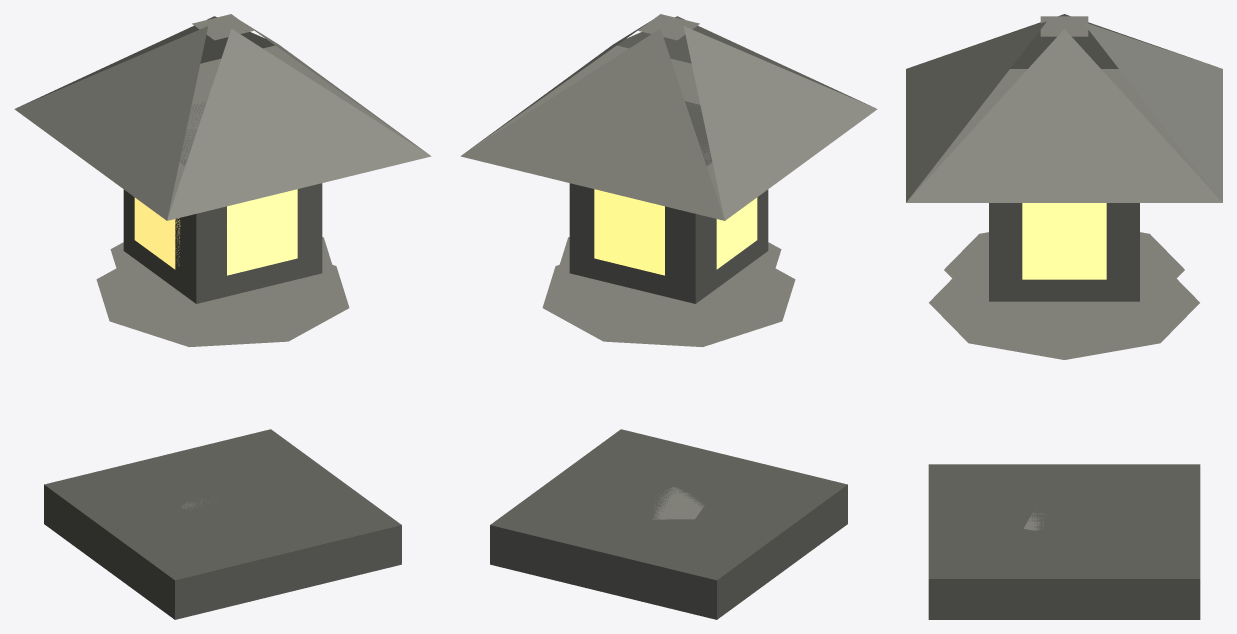
The model's file is night_stone_lantern_lod1.glb.
3 views of the same model, side by side, from view 1: azimuth 30°, elevation 25°; view 2: azimuth 150°, elevation 25°; view 3: azimuth 270°, elevation 25° (orthographic). The views are drawn at different scales.
Visible parts, largest first — view 1: night_stone_lantern_lod1; view 2: night_stone_lantern_lod1; view 3: night_stone_lantern_lod1.
Part boxes in pixels (<box>): night_stone_lantern_lod1: <box>14,14,431,619</box>; night_stone_lantern_lod1: <box>460,14,877,619</box>; night_stone_lantern_lod1: <box>906,14,1222,619</box>.
Bounding box in the file's own units: 1.05 × 1.98 × 1.05.
